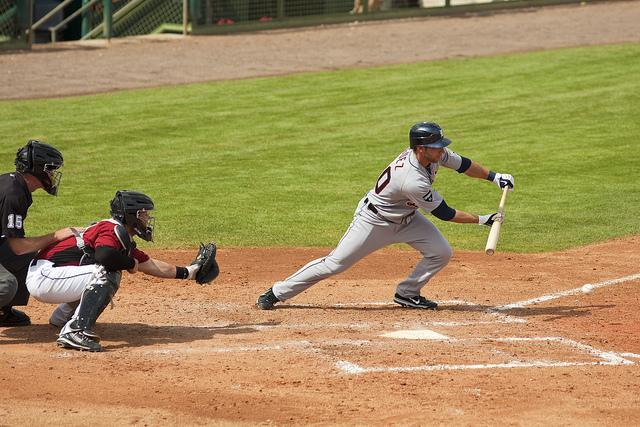baseball bat: (485, 186, 509, 256)
sports ball: (583, 283, 595, 297)
